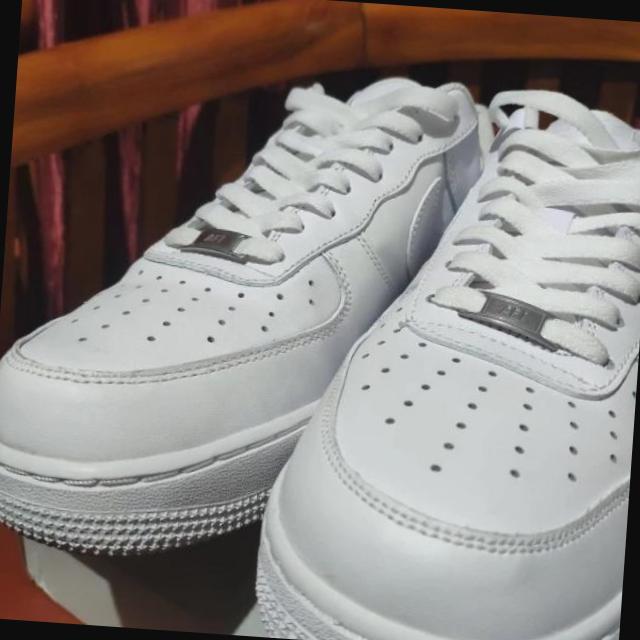nike_original_airforce: (0, 45, 482, 581), (248, 88, 640, 640)
